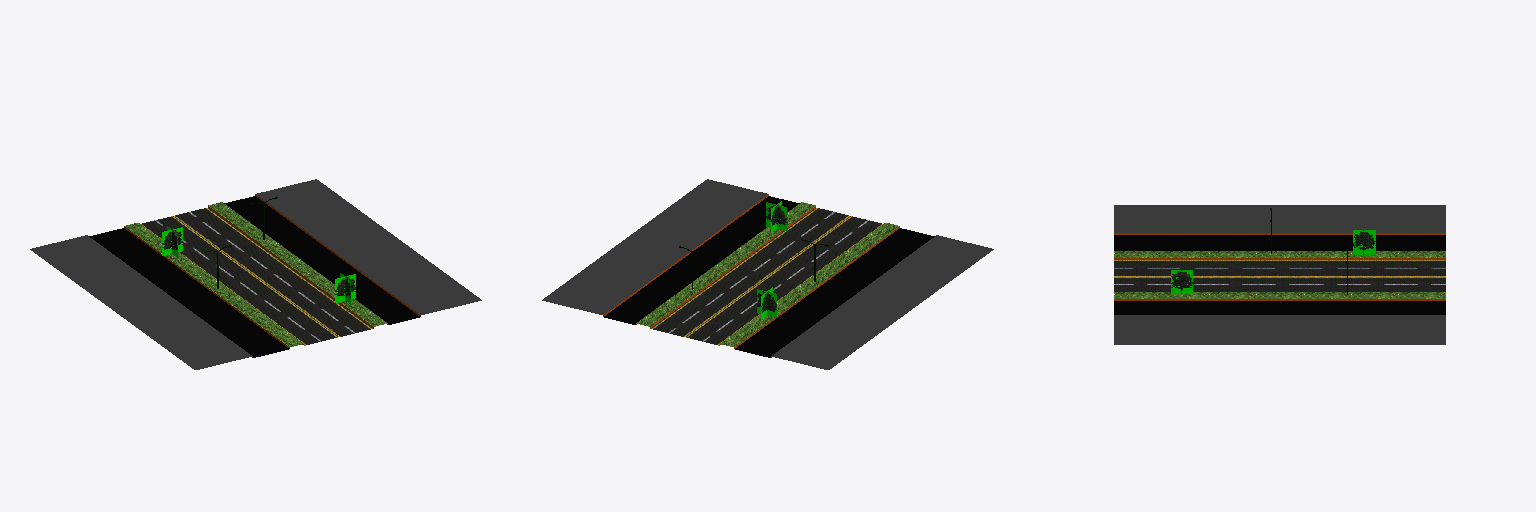
The picture shows the model from 3 angles: view 1: azimuth 30°, elevation 25°; view 2: azimuth 150°, elevation 25°; view 3: azimuth 270°, elevation 25°; orthographic projection.
Visible parts, largest first — view 1: 01_main_Grid; view 2: 01_main_Grid; view 3: 01_main_Grid.
Boxes of the visible parts, <box> form: 01_main_Grid: <box>30,179,481,369</box>; 01_main_Grid: <box>542,179,993,369</box>; 01_main_Grid: <box>1114,205,1445,344</box>.
Bounding box in the file's own units: 16 × 2.2 × 16.
Materials: 5 (1 with a texture image).